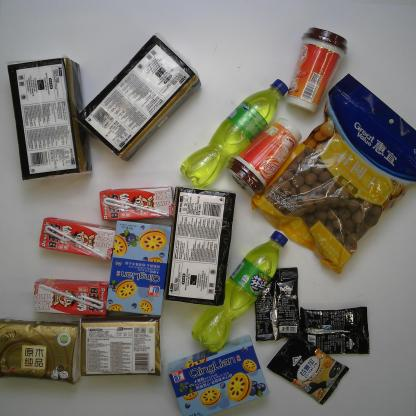Dessert: (163, 335, 272, 416), (103, 215, 168, 321)
Dried Food: (248, 76, 416, 274)
Drink: (180, 76, 290, 190), (192, 228, 290, 353)
Instant Drink: (226, 116, 302, 198), (267, 333, 350, 405), (285, 25, 348, 114), (252, 263, 300, 344), (294, 305, 369, 356)
Milk: (37, 216, 117, 262), (29, 276, 110, 314), (99, 185, 174, 224)
Tissue: (72, 34, 202, 163), (5, 57, 95, 181), (162, 185, 237, 307), (72, 319, 167, 377), (1, 315, 80, 383)
